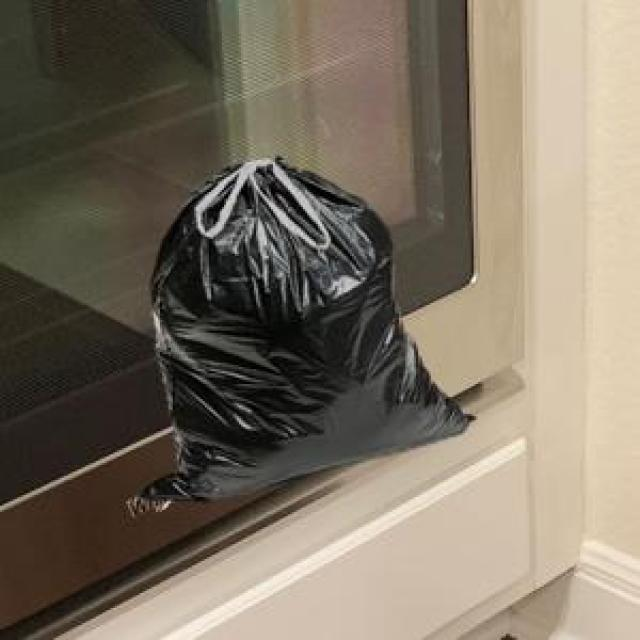waste: (138, 159, 466, 509)
